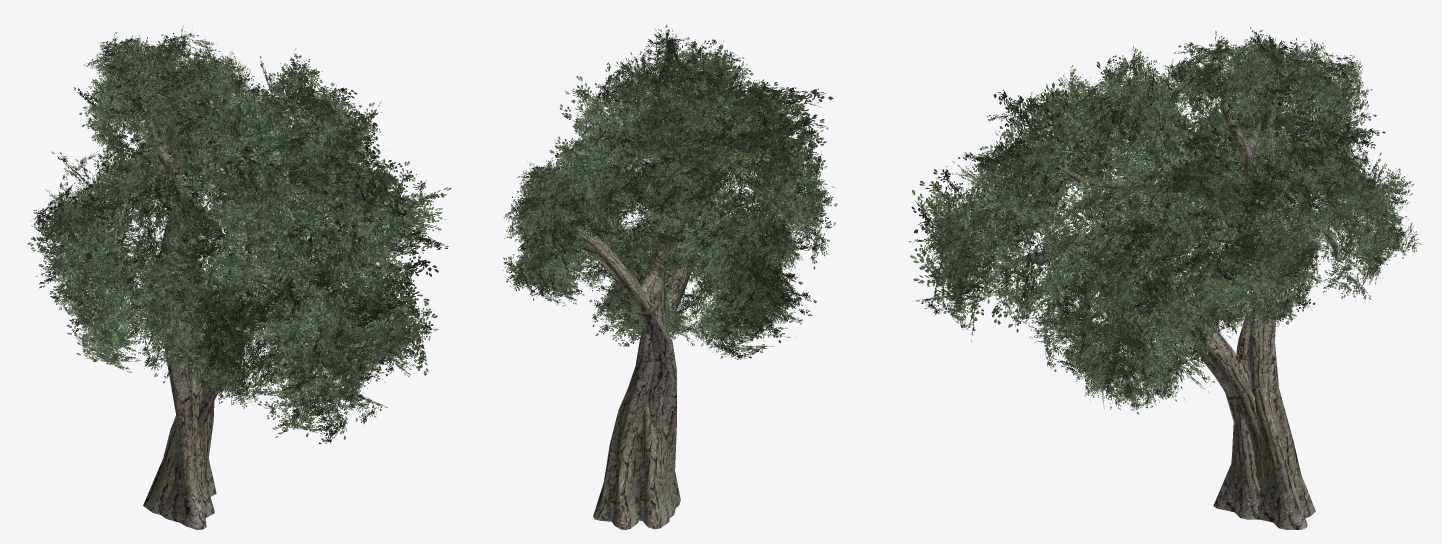
File: SM_Savanna_Tree_03.fbx
3 renders of one model, left to right at view 1: azimuth 30°, elevation 25°; view 2: azimuth 150°, elevation 25°; view 3: azimuth 270°, elevation 25°, orthographic. The views are drawn at different scales.
Parts seen in each view (by area): view 1: SM_Savanna_Tree_03_LOD0; view 2: SM_Savanna_Tree_03_LOD0; view 3: SM_Savanna_Tree_03_LOD0.
Part boxes in pixels (x1,y1,x2,y2): SM_Savanna_Tree_03_LOD0: (27,25,451,529); SM_Savanna_Tree_03_LOD0: (503,24,837,529); SM_Savanna_Tree_03_LOD0: (908,27,1421,529).
Size of the model in its own units: 778 by 1030 by 1040.
Materials: 2 (2 with a texture image).
